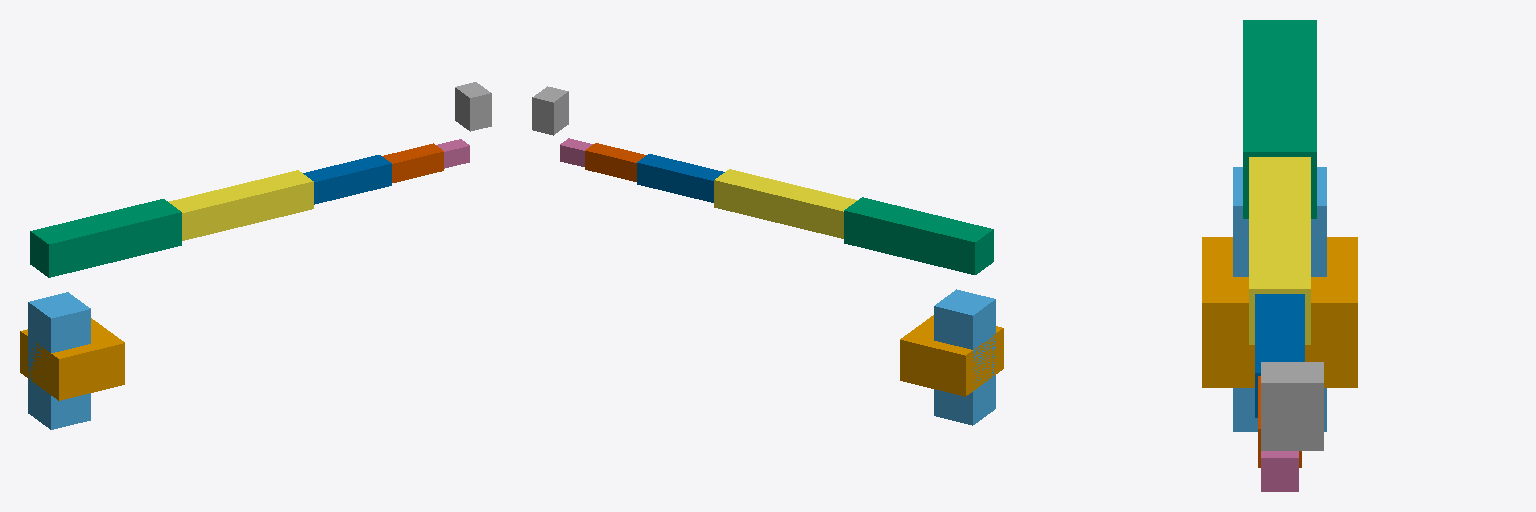
robot.urdf — qp_reference_synthetic_6r:
<?xml version="1.0"?>
<!-- 合成解析案例；effort=100 N*m 仅导入字段测试值，禁止当作真实驱动能力。 -->
<robot name="qp_reference_synthetic_6r">
  <link name="l0">
    <inertial>
      <origin xyz="0.125 0.01 0" rpy="0 0 0" />
      <mass value="10" />
      <inertia ixx="0.07083333333333332" iyy="0.07083333333333332" izz="0.10416666666666667" ixy="0" ixz="0" iyz="0" />
    </inertial>
    <visual>
      <origin xyz="0.125 0.01 0" rpy="0 0 0" />
      <geometry>
        <box size="0.25 0.25 0.15" />
      </geometry>
    </visual>
    <collision>
      <origin xyz="0.125 0.01 0" rpy="0 0 0" />
      <geometry>
        <box size="0.25 0.25 0.15" />
      </geometry>
    </collision>
  </link>
  <link name="l1">
    <inertial>
      <origin xyz="0.075 0.01 0" rpy="0 0 0" />
      <mass value="5" />
      <inertia ixx="0.07604166666666667" iyy="0.07604166666666667" izz="0.01875" ixy="0" ixz="0" iyz="0" />
    </inertial>
    <visual>
      <origin xyz="0.075 0.01 0" rpy="0 0 0" />
      <geometry>
        <box size="0.15 0.15 0.4" />
      </geometry>
    </visual>
    <collision>
      <origin xyz="0.075 0.01 0" rpy="0 0 0" />
      <geometry>
        <box size="0.15 0.15 0.4" />
      </geometry>
    </collision>
  </link>
  <link name="l2">
    <inertial>
      <origin xyz="0.25 0.01 0" rpy="0 0 0" />
      <mass value="8" />
      <inertia ixx="0.0192" iyy="0.17626666666666668" izz="0.17626666666666668" ixy="0" ixz="0" iyz="0" />
    </inertial>
    <visual>
      <origin xyz="0.25 0.01 0" rpy="0 0 0" />
      <geometry>
        <box size="0.5 0.12 0.12" />
      </geometry>
    </visual>
    <collision>
      <origin xyz="0.25 0.01 0" rpy="0 0 0" />
      <geometry>
        <box size="0.5 0.12 0.12" />
      </geometry>
    </collision>
  </link>
  <link name="l3">
    <inertial>
      <origin xyz="0.25 0.01 0" rpy="0 0 0" />
      <mass value="6" />
      <inertia ixx="0.010000000000000002" iyy="0.13" izz="0.13" ixy="0" ixz="0" iyz="0" />
    </inertial>
    <visual>
      <origin xyz="0.25 0.01 0" rpy="0 0 0" />
      <geometry>
        <box size="0.5 0.1 0.1" />
      </geometry>
    </visual>
    <collision>
      <origin xyz="0.25 0.01 0" rpy="0 0 0" />
      <geometry>
        <box size="0.5 0.1 0.1" />
      </geometry>
    </collision>
  </link>
  <link name="l4">
    <inertial>
      <origin xyz="0.15 0.01 0" rpy="0 0 0" />
      <mass value="3" />
      <inertia ixx="0.0032" iyy="0.0241" izz="0.0241" ixy="0" ixz="0" iyz="0" />
    </inertial>
    <visual>
      <origin xyz="0.15 0.01 0" rpy="0 0 0" />
      <geometry>
        <box size="0.3 0.08 0.08" />
      </geometry>
    </visual>
    <collision>
      <origin xyz="0.15 0.01 0" rpy="0 0 0" />
      <geometry>
        <box size="0.3 0.08 0.08" />
      </geometry>
    </collision>
  </link>
  <link name="l5">
    <inertial>
      <origin xyz="0.1 0.01 0" rpy="0 0 0" />
      <mass value="2" />
      <inertia ixx="0.0016333333333333336" iyy="0.007483333333333335" izz="0.007483333333333335" ixy="0" ixz="0" iyz="0" />
    </inertial>
    <visual>
      <origin xyz="0.1 0.01 0" rpy="0 0 0" />
      <geometry>
        <box size="0.2 0.07 0.07" />
      </geometry>
    </visual>
    <collision>
      <origin xyz="0.1 0.01 0" rpy="0 0 0" />
      <geometry>
        <box size="0.2 0.07 0.07" />
      </geometry>
    </collision>
  </link>
  <link name="l6">
    <inertial>
      <origin xyz="0.05 0.01 0" rpy="0 0 0" />
      <mass value="1" />
      <inertia ixx="0.0006" iyy="0.0011333333333333334" izz="0.0011333333333333334" ixy="0" ixz="0" iyz="0" />
    </inertial>
    <visual>
      <origin xyz="0.05 0.01 0" rpy="0 0 0" />
      <geometry>
        <box size="0.1 0.06 0.06" />
      </geometry>
    </visual>
    <collision>
      <origin xyz="0.05 0.01 0" rpy="0 0 0" />
      <geometry>
        <box size="0.1 0.06 0.06" />
      </geometry>
    </collision>
  </link>
  <link name="tool">
    <inertial>
      <origin xyz="0.03 0.01 0.04" rpy="0 0 0" />
      <mass value="1" />
      <inertia ixx="0.0017333333333333333" iyy="0.0020333333333333336" izz="0.0013666666666666669" ixy="0" ixz="0" iyz="0" />
    </inertial>
    <visual>
      <origin xyz="0.03 0.01 0.04" rpy="0 0 0" />
      <geometry>
        <box size="0.1 0.08 0.12" />
      </geometry>
    </visual>
    <collision>
      <origin xyz="0.03 0.01 0.04" rpy="0 0 0" />
      <geometry>
        <box size="0.1 0.08 0.12" />
      </geometry>
    </collision>
  </link>
  <joint name="j1" type="revolute">
    <parent link="l0" />
    <child link="l1" />
    <origin xyz="0 0 0" rpy="0 0 0" />
    <axis xyz="0 0 1" />
    <limit lower="-3.14" upper="3.14" velocity="1" effort="100" />
  </joint>
  <joint name="j2" type="revolute">
    <parent link="l1" />
    <child link="l2" />
    <origin xyz="0 0 0.4" rpy="0 0 0" />
    <axis xyz="0 1 0" />
    <limit lower="-1.5" upper="1.5" velocity="1" effort="100" />
  </joint>
  <joint name="j3" type="revolute">
    <parent link="l2" />
    <child link="l3" />
    <origin xyz="0.5 0 0" rpy="0 0 0" />
    <axis xyz="0 1 0" />
    <limit lower="-1.5" upper="1.5" velocity="1" effort="100" />
  </joint>
  <joint name="j4" type="revolute">
    <parent link="l3" />
    <child link="l4" />
    <origin xyz="0.5 0 0" rpy="0 0 0" />
    <axis xyz="1 0 0" />
    <limit lower="-3.14" upper="3.14" velocity="1" effort="100" />
  </joint>
  <joint name="j5" type="revolute">
    <parent link="l4" />
    <child link="l5" />
    <origin xyz="0.3 0 0" rpy="0 0 0" />
    <axis xyz="0 1 0" />
    <limit lower="-1.5" upper="1.5" velocity="1" effort="100" />
  </joint>
  <joint name="j6" type="revolute">
    <parent link="l5" />
    <child link="l6" />
    <origin xyz="0.2 0 0" rpy="0 0 0" />
    <axis xyz="1 0 0" />
    <limit lower="-3.14" upper="3.14" velocity="1" effort="100" />
  </joint>
  <joint name="tcp_fixed" type="fixed">
    <parent link="l6" />
    <child link="tool" />
    <origin xyz=".15 0 .1" rpy="0 0 1.5707963267948966" />
  </joint>
</robot>

--- What the picture shows (computed from the rendered views, not written in the file) ---
The picture shows the robot from 3 angles, left to right: view 1: azimuth 30°, elevation 25°; view 2: azimuth 150°, elevation 25°; view 3: azimuth 270°, elevation 25°; orthographic projection.
Model qp_reference_synthetic_6r with 8 links and 7 joints (6 revolute, 1 fixed), rooted at l0, posed every joint at zero.
Links seen in each view (by area): view 1: l2, l3, l1, l0, l4, l5, tool, l6; view 2: l2, l3, l1, l0, l4, tool, l5, l6; view 3: l0, l2, l3, tool, l1, l4, l6.
Boxes of the visible links, left/top/right/bottom form: l2: left=30, top=199, right=181, bottom=277; l3: left=169, top=170, right=313, bottom=240; l1: left=28, top=292, right=90, bottom=429; l0: left=20, top=318, right=124, bottom=400; l4: left=303, top=155, right=391, bottom=204; l5: left=382, top=143, right=443, bottom=182; tool: left=455, top=82, right=491, bottom=131; l6: left=436, top=139, right=469, bottom=168; l2: left=844, top=197, right=993, bottom=274; l3: left=714, top=169, right=857, bottom=238; l1: left=934, top=289, right=995, bottom=425; l0: left=900, top=315, right=1003, bottom=396; l4: left=637, top=154, right=724, bottom=202; tool: left=532, top=86, right=568, bottom=135; l5: left=585, top=143, right=645, bottom=181; l6: left=560, top=138, right=592, bottom=166; l0: left=1202, top=237, right=1357, bottom=387; l2: left=1243, top=20, right=1316, bottom=218; l3: left=1249, top=157, right=1310, bottom=344; tool: left=1261, top=362, right=1323, bottom=450; l1: left=1233, top=167, right=1326, bottom=431; l4: left=1255, top=294, right=1304, bottom=417; l6: left=1261, top=451, right=1298, bottom=491.
Bounding box of the posed robot: 1.68 × 0.25 × 0.8 m (x, y, z).
Geometry: primitives only (box / cylinder / sphere), no mesh files.
